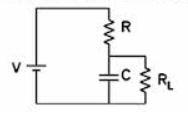Capacitor: (94, 63, 118, 88)
